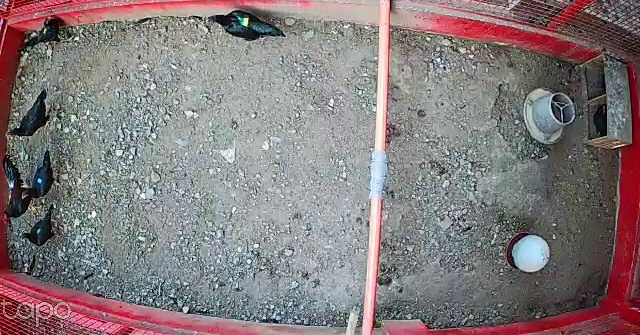Chicken: (205, 4, 289, 46), (4, 86, 61, 142), (19, 13, 74, 53), (24, 153, 69, 201), (18, 207, 58, 250)
Rooster: (0, 153, 40, 222)
Saddle_Color_Blue: (35, 175, 44, 185)
Saddle_Color_Yellow: (43, 26, 47, 34)
Saddle_Color_YellowGreen: (237, 16, 249, 28)
